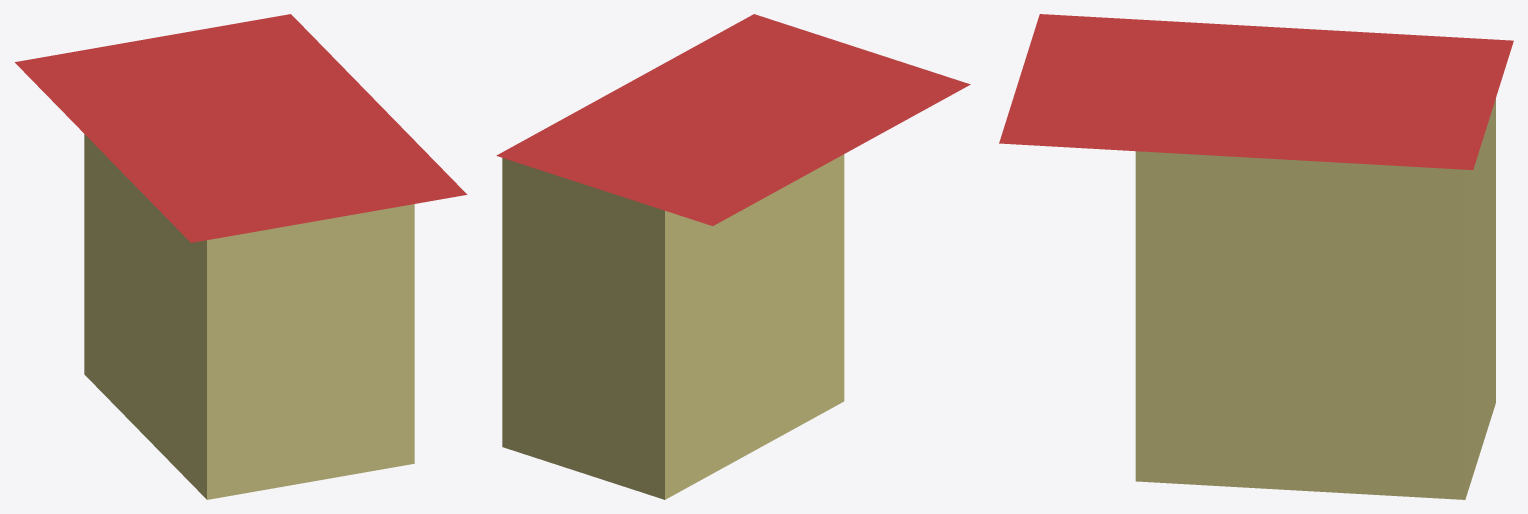
3 renders of one model, left to right at view 1: azimuth 30°, elevation 25°; view 2: azimuth 150°, elevation 25°; view 3: azimuth 270°, elevation 25°, orthographic. The views are drawn at different scales.
Bounding box in the file's own units: 6.34 × 8.84 × 6.27.
